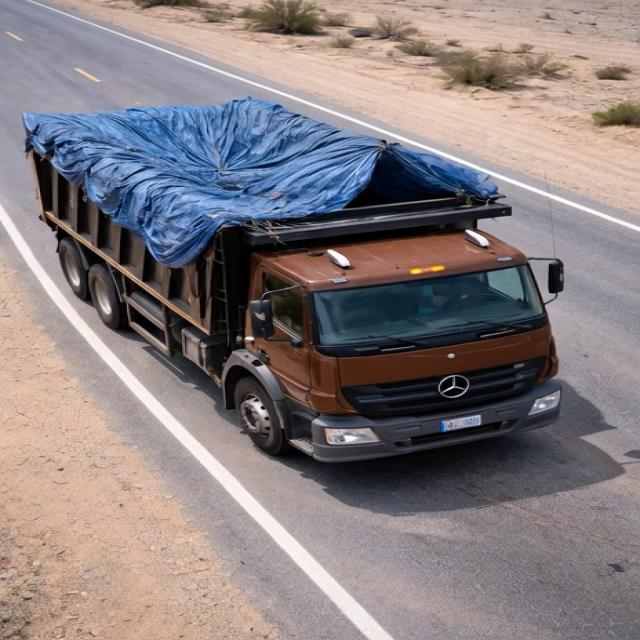Box: (20, 94, 519, 224)
Truck: (13, 74, 576, 470)
